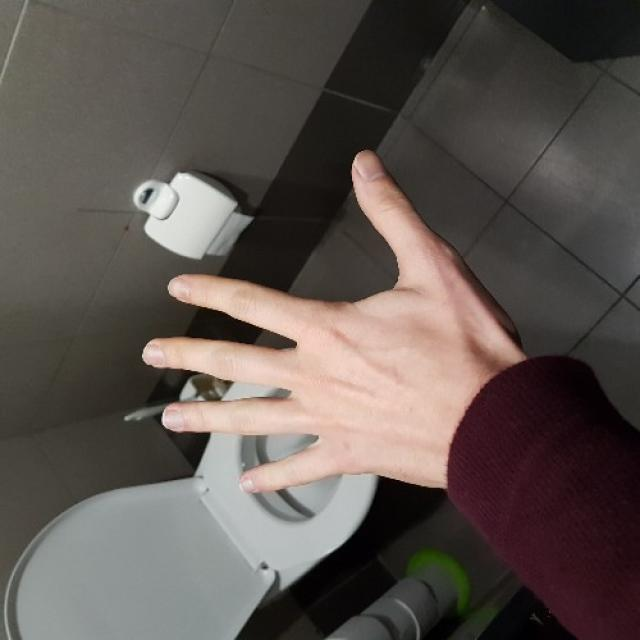paper: (141, 150, 460, 496)
